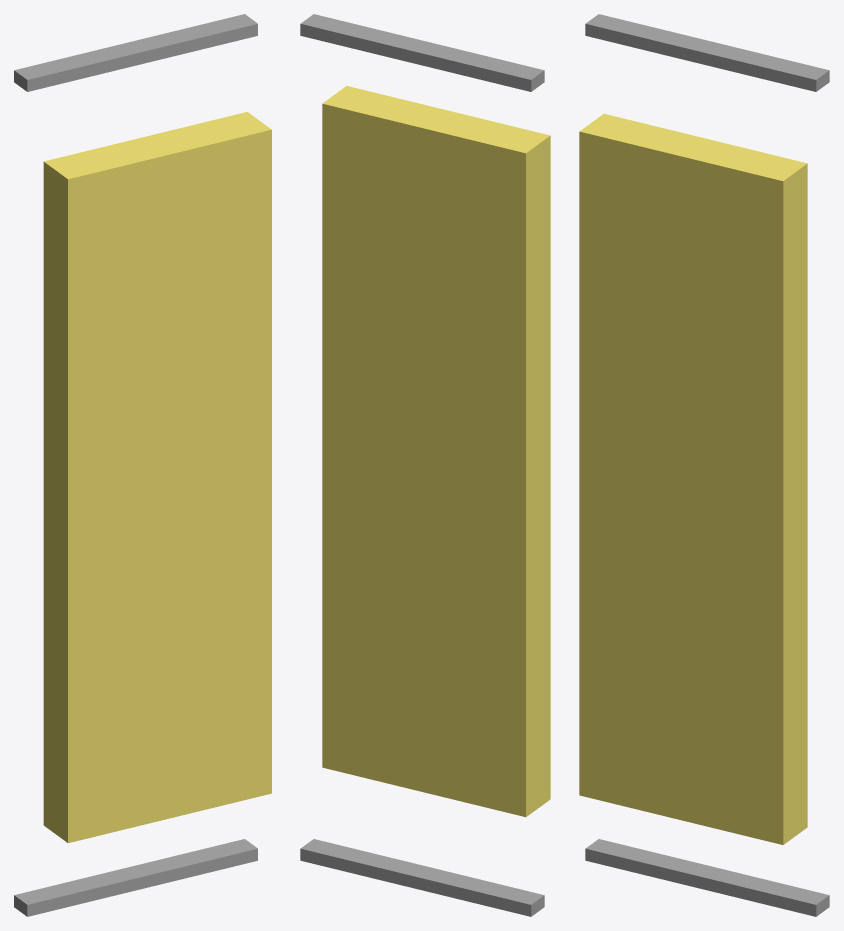
Rendered from compact-validation-export.glb.
3 views of the same model, side by side, from view 1: azimuth 30°, elevation 25°; view 2: azimuth 150°, elevation 25°; view 3: azimuth 330°, elevation 25° (orthographic).
Parts seen in each view (by area): view 1: OpenSCAD Model; view 2: OpenSCAD Model; view 3: OpenSCAD Model.
Part boxes in pixels (bbox=[...]): OpenSCAD Model: bbox=[14, 14, 271, 916]; OpenSCAD Model: bbox=[300, 14, 550, 916]; OpenSCAD Model: bbox=[579, 14, 829, 916].
Size of the model in its own units: 120 by 416 by 33.
